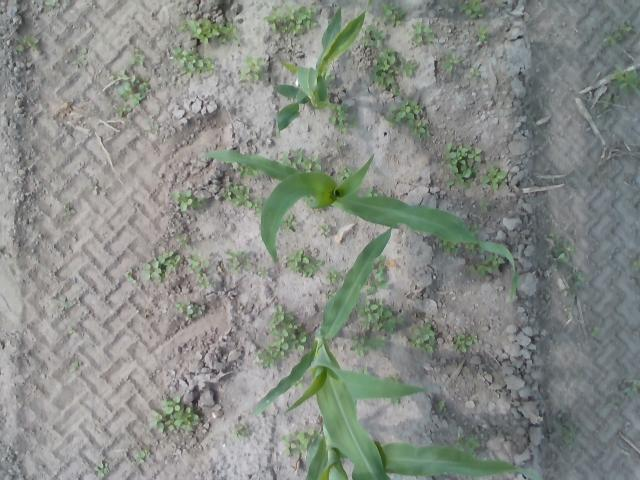Maize: (197, 147, 518, 302), (252, 224, 422, 480), (303, 419, 542, 480), (273, 5, 366, 132)
Weeds: (257, 306, 306, 370), (150, 396, 198, 435), (444, 144, 484, 188), (388, 98, 427, 136), (266, 7, 320, 32), (371, 52, 400, 96), (364, 302, 403, 331), (186, 21, 236, 42), (172, 47, 204, 78), (284, 426, 314, 458), (289, 148, 330, 168), (236, 55, 263, 83), (474, 256, 502, 282), (411, 322, 436, 351), (328, 103, 351, 134), (352, 337, 384, 357), (362, 24, 386, 47), (614, 69, 638, 92), (484, 165, 504, 191), (382, 2, 404, 25), (173, 190, 194, 214), (289, 249, 311, 270), (142, 259, 162, 282), (174, 302, 204, 317), (122, 84, 142, 106), (456, 334, 476, 356), (552, 239, 572, 260), (413, 25, 435, 44), (399, 56, 418, 78), (374, 266, 390, 291), (237, 184, 253, 208), (158, 250, 180, 266), (189, 253, 209, 270), (230, 422, 250, 439), (224, 252, 242, 270), (300, 260, 320, 276), (108, 72, 130, 86), (602, 30, 620, 47), (445, 58, 461, 76), (72, 50, 90, 66), (20, 35, 39, 50), (461, 1, 479, 16), (463, 436, 481, 450), (244, 250, 258, 268), (132, 46, 146, 63), (54, 297, 72, 310), (94, 461, 110, 475), (440, 243, 458, 254), (238, 167, 256, 178), (624, 20, 636, 36), (249, 197, 261, 213), (193, 272, 210, 283), (118, 104, 131, 117), (140, 77, 152, 91), (178, 232, 190, 246), (575, 271, 585, 287), (223, 188, 234, 202), (318, 225, 332, 236), (204, 57, 214, 72), (136, 450, 148, 462), (476, 27, 486, 41), (62, 206, 76, 216), (468, 69, 482, 79), (70, 360, 80, 374), (338, 166, 349, 178), (286, 215, 296, 228), (465, 244, 477, 254), (590, 325, 600, 337), (258, 268, 270, 278), (564, 428, 573, 441), (479, 200, 490, 210), (365, 188, 377, 197), (326, 273, 336, 283), (124, 270, 134, 279), (151, 125, 160, 135)
